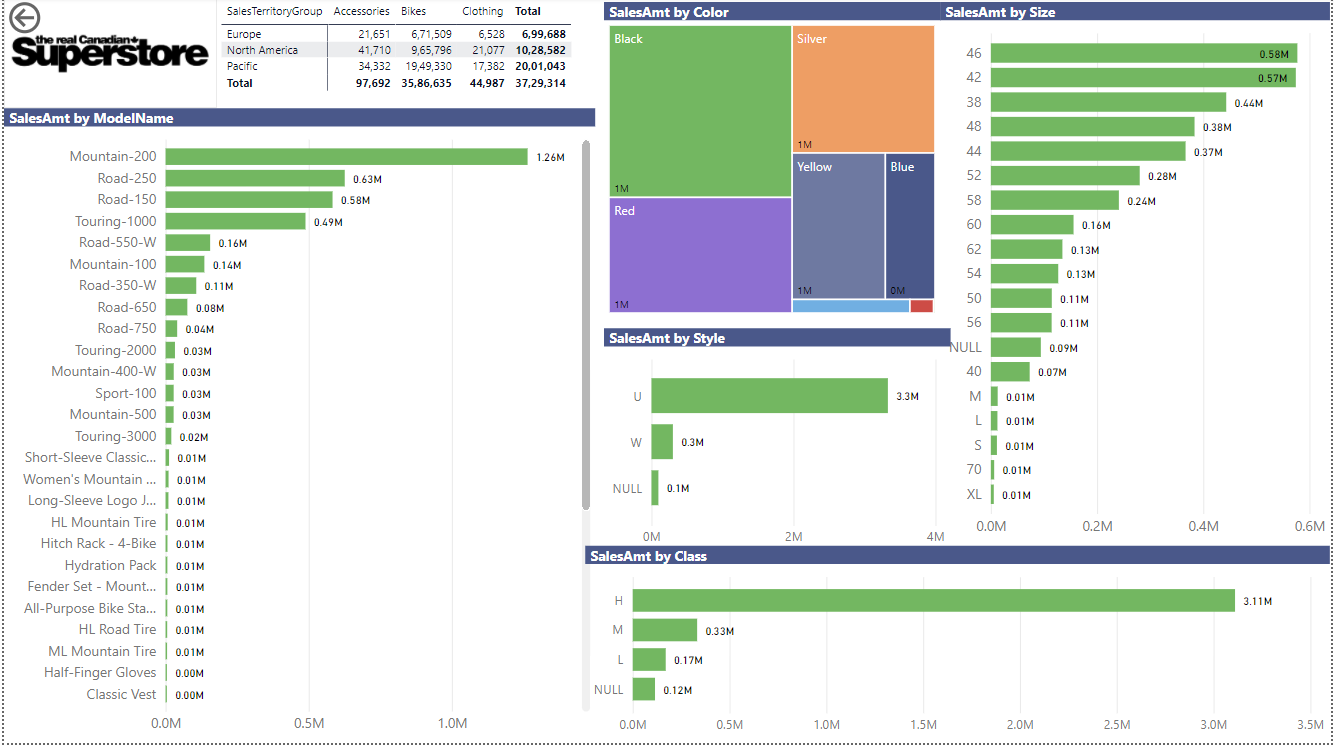

Layout of this report page (visuals, bound fields, positions):
{"tool":"powerbi","page":{"name":"Product Visual","canvas":[1280,720],"ordinal":2},"visuals":[{"type":"pivotTable","fields":{"Values":["MeasureTable.SalesAmt"],"Columns":["DimProductCategory.EnglishProductCategoryName"],"Rows":["DimSalesTerritory.SalesTerritoryGroup","DimSalesTerritory.SalesTerritoryCountry"]},"box":[205.1,0,364.8,106.9],"z":0},{"type":"barChart","fields":{"Y":["MeasureTable.SalesAmt"],"Category":["DimProduct.ModelName"]},"box":[0,107.3,570.5,612.7],"z":1000},{"type":"actionButton","box":[0,0,100,40],"z":2000},{"type":"treemap","fields":{"Group":["DimProduct.Color"],"Values":["MeasureTable.SalesAmt"]},"box":[578.9,4.8,324.4,305.1],"z":3000},{"type":"barChart","fields":{"Y":["MeasureTable.SalesAmt"],"Category":["DimProduct.Size"]},"box":[903.3,4.8,376.3,524.6],"z":4000},{"type":"barChart","fields":{"Y":["MeasureTable.SalesAmt"],"Category":["DimProduct.Class"]},"box":[560.8,529.4,718.8,190.6],"z":5000},{"type":"barChart","fields":{"Y":["MeasureTable.SalesAmt"],"Category":["DimProduct.Style"]},"box":[579.2,319.9,334.1,219.5],"z":6000},{"type":"image","box":[0,0,205,107.3],"z":7000}]}

Visuals, with their boxes on the page's 1280x720 design canvas (x1, y1, x2, y2). These are canvas units, not pixel positions in the 1334x745 screenshot, which may show the page scaled, cropped or inside an application window:
pivotTable - MeasureTable.SalesAmt x DimProductCategory.EnglishProductCategoryName: bbox=[205, 0, 570, 107]
barChart - MeasureTable.SalesAmt x DimProduct.ModelName: bbox=[0, 107, 570, 720]
actionButton: bbox=[0, 0, 100, 40]
treemap - DimProduct.Color x MeasureTable.SalesAmt: bbox=[579, 5, 903, 310]
barChart - MeasureTable.SalesAmt x DimProduct.Size: bbox=[903, 5, 1280, 529]
barChart - MeasureTable.SalesAmt x DimProduct.Class: bbox=[561, 529, 1280, 720]
barChart - MeasureTable.SalesAmt x DimProduct.Style: bbox=[579, 320, 913, 539]
image: bbox=[0, 0, 205, 107]
